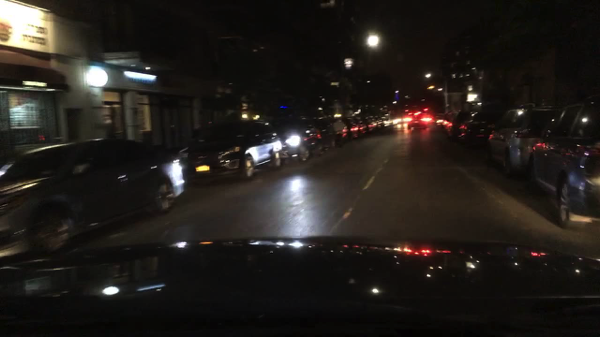car: (0, 138, 186, 264), (525, 94, 599, 230), (182, 119, 284, 187), (483, 103, 567, 180), (270, 114, 321, 162), (455, 111, 502, 150), (315, 116, 352, 148), (319, 115, 337, 156), (449, 111, 468, 143), (344, 116, 366, 140), (442, 110, 457, 133), (408, 118, 427, 130), (365, 116, 379, 132), (380, 116, 392, 129), (375, 117, 385, 131), (434, 116, 443, 127), (389, 115, 397, 125), (427, 115, 434, 125), (404, 116, 412, 122), (397, 117, 403, 124)
